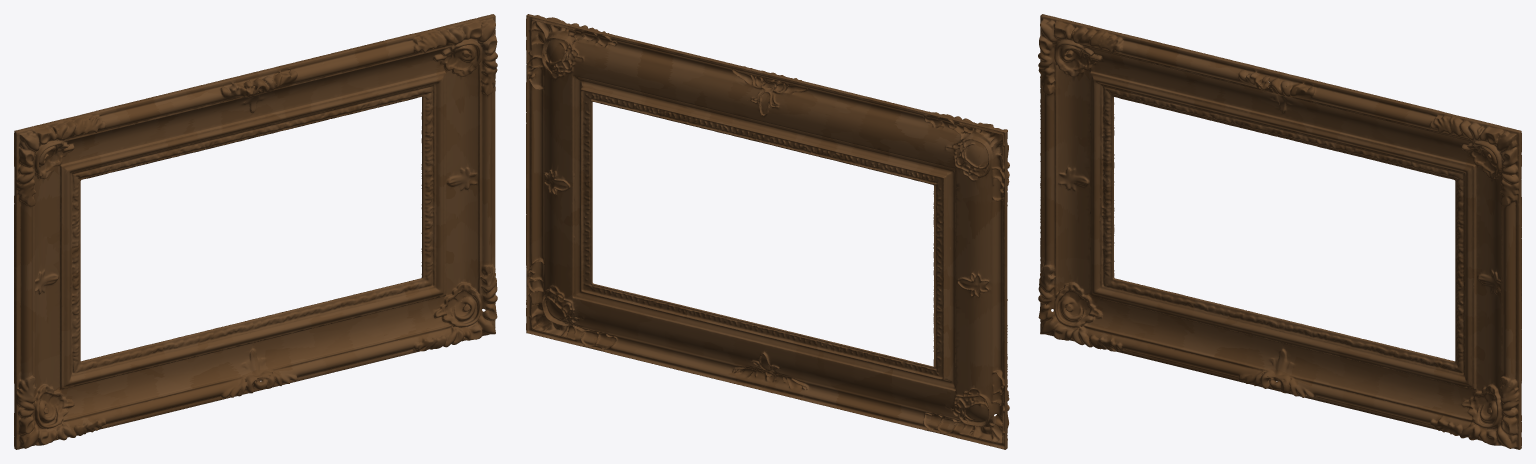
File: frame.glb
The picture shows the model from 3 angles, left to right: view 1: azimuth 30°, elevation 25°; view 2: azimuth 150°, elevation 25°; view 3: azimuth 330°, elevation 25°; orthographic projection.
Bounding box in the file's own units: 1.9 × 1.2 × 0.0888.
Materials: 1 (1 with a texture image).
